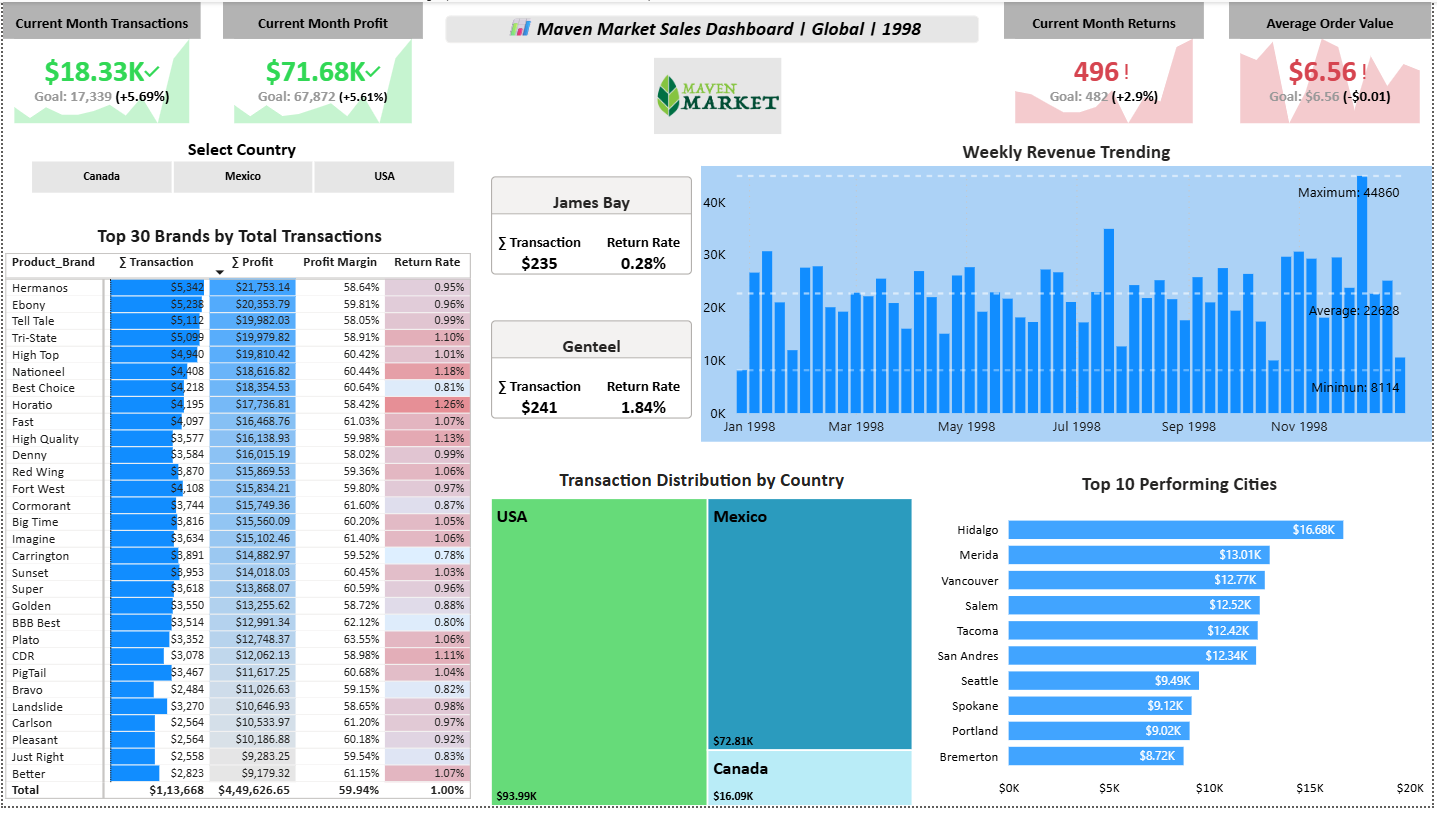

This screenshot's page, from the dashboard's own definition file:
{"tool":"powerbi","page":{"name":"Topline Performance","canvas":[1280,720],"ordinal":0},"visuals":[{"type":"image","box":[582.6,49.6,113.8,69.1],"z":0},{"type":"pivotTable","title":"Top 30 Brands by Total Transactions","fields":{"Rows":["Products.product_brand"],"Values":["Measure.Total Transaction","Measure.Total Profit","Measure.Profit Margin","Measure.Retrun Rate"]},"box":[0,182.9,428,536.9],"z":1000},{"type":"kpi","title":"Current Month Transactions","fields":{"Indicator":["Measure.Total Transaction"],"Goal":["Measure.Last Month Transactions"],"TrendLine":["Calendar.Start of Month"]},"box":[0,0,177,118.7],"z":2000},{"type":"kpi","title":"Current Month Profit","fields":{"TrendLine":["Calendar.Start of Month"],"Indicator":["Measure.Total Profit"],"Goal":["Measure.Last Month Profit"]},"box":[197.4,0,179,118.7],"z":3000},{"type":"kpi","title":"Current Month Returns","fields":{"TrendLine":["Calendar.Start of Month"],"Indicator":["Measure.Total returns"],"Goal":["Measure.Last Month Returns"]},"box":[896.8,0,179,118.7],"z":4000},{"type":"kpi","title":"Average Order Value","fields":{"TrendLine":["Calendar.Start of Month"],"Indicator":["Measure.Average Order Value"],"Goal":["Measure.Last Month AOV"]},"box":[1098.1,0,180.9,118.7],"z":5000},{"type":"slicer","title":"Select Country","fields":{"Values":["Stores.store_country"]},"box":[0,121.6,428,50.6],"z":6000},{"type":"treemap","title":"Transaction Distribution by Country","fields":{"Group":["Stores.store_country","Stores.store_state","Stores.store_city"],"Values":["Measure.Total Transaction"]},"box":[436.7,416.3,377.4,303.5],"z":7000},{"type":"clusteredColumnChart","title":"Weekly Revenue Trending","fields":{"Category":["Calendar.Start of Week"],"Y":["Measure.Total Revenue"]},"box":[625.4,121.6,654.6,272.3],"z":8000},{"type":"clusteredBarChart","title":"Top 10 Performing Cities","fields":{"Category":["Stores.store_city"],"Y":["Measure.Total Transaction"]},"box":[826.7,416.3,452.3,303.5],"z":9000},{"type":"cardVisual","fields":{"Data":["Measure.Dashboard Title"]},"box":[384.2,0,502.9,49.6],"z":10000},{"type":"cardVisual","fields":{"Data":["Measure.∑ Transaction","Measure.Return Rate"],"Rows":["Products.product_brand"]},"box":[437,265.1,180,129],"z":11000},{"type":"cardVisual","fields":{"Data":["Measure.∑ Transaction","Measure.Return Rate"],"Rows":["Products.product_brand"]},"box":[437,136.1,180,129],"z":12000}]}

Visuals, with their boxes in screenshot pixels (x1, y1, x2, y2), scaled from the page's 1280x720 canvas onto the 1437x813 screenshot:
image: select_region(654, 56, 782, 134)
"Top 30 Brands by Total Transactions" pivotTable: select_region(0, 207, 480, 812)
"Current Month Transactions" kpi: select_region(0, 0, 199, 134)
"Current Month Profit" kpi: select_region(222, 0, 423, 134)
"Current Month Returns" kpi: select_region(1007, 0, 1208, 134)
"Average Order Value" kpi: select_region(1233, 0, 1436, 134)
"Select Country" slicer: select_region(0, 137, 480, 194)
"Transaction Distribution by Country" treemap: select_region(490, 470, 914, 812)
"Weekly Revenue Trending" clusteredColumnChart: select_region(702, 137, 1436, 445)
"Top 10 Performing Cities" clusteredBarChart: select_region(928, 470, 1436, 812)
cardVisual - Measure.Dashboard Title: select_region(431, 0, 996, 56)
cardVisual - Measure.∑ Transaction x Measure.Return Rate: select_region(491, 299, 693, 445)
cardVisual - Measure.∑ Transaction x Measure.Return Rate: select_region(491, 154, 693, 299)
